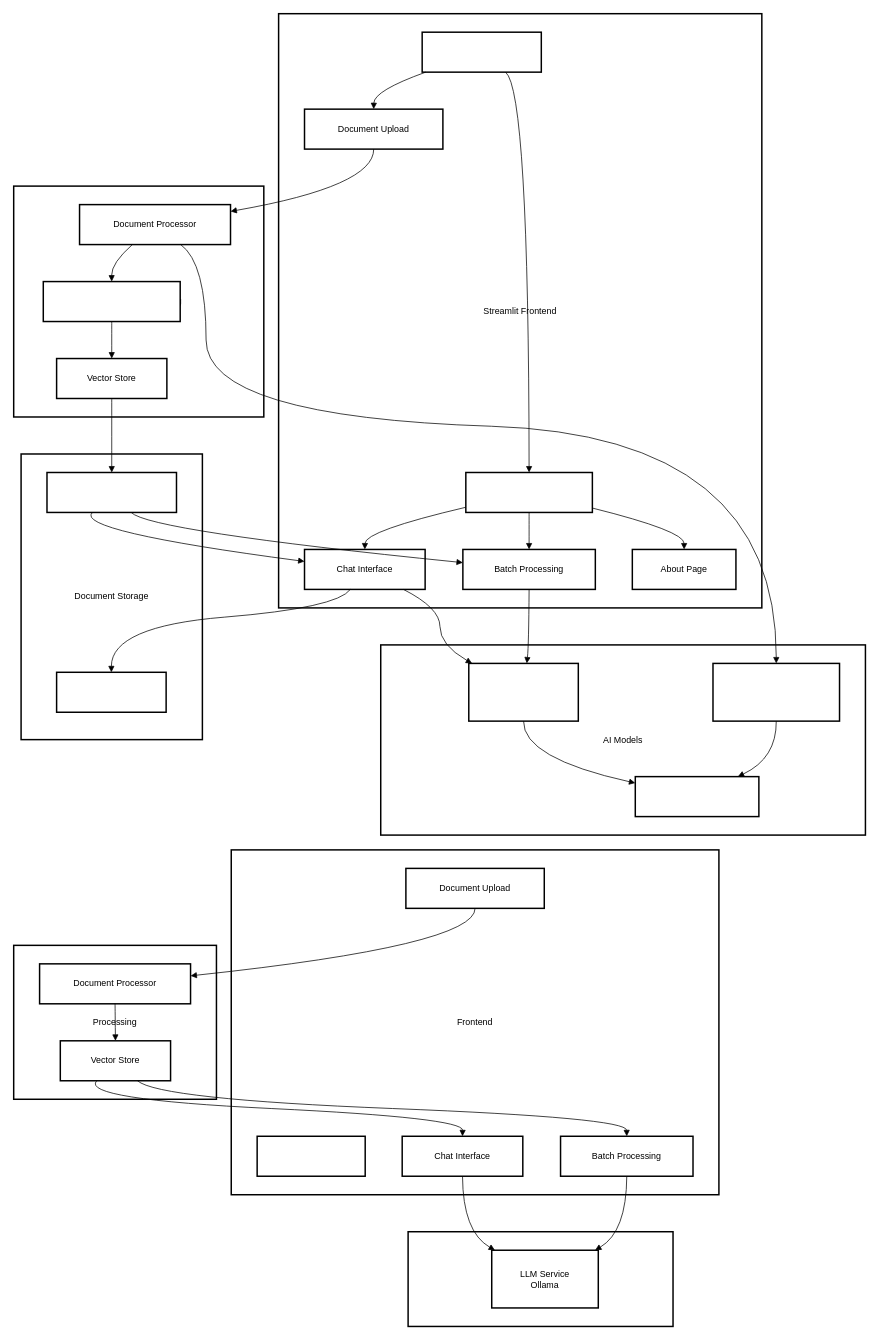
Image size: 878x1339. Some labels were removed from this diagram. The shapes that lost their labels are listed below. From the top down, each one's centre as x and y in pixels, then its label:
(x=481, y=52): Web Interface
(x=111, y=301): Document Helper
(x=111, y=492): Document Store
(x=529, y=492): Navigation Tabs
(x=111, y=692): Chat History
(x=523, y=692): Chat LLM deepseek-r1
(x=776, y=692): Embedding LLM nomic-embed
(x=696, y=796): Ollama Service
(x=311, y=1156): Streamlit UI
